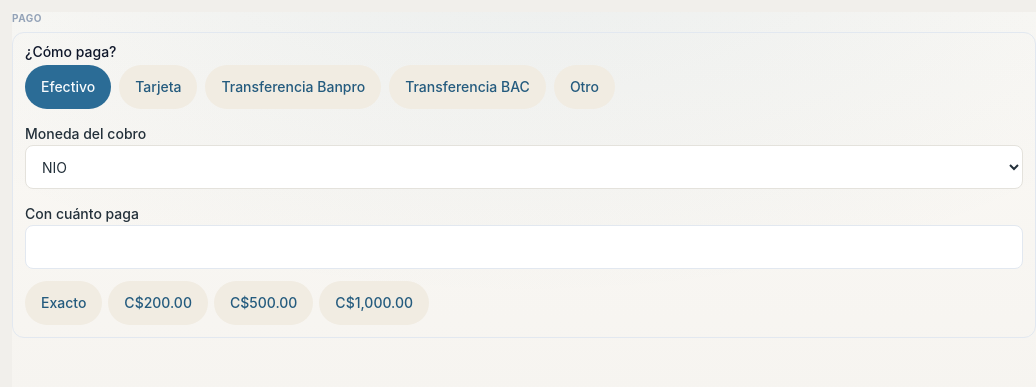
PosPaymentFields › los montos rápidos llenan el monto con un billete real o con el exacto
Click the button "Exacto".
click(64, 303)  # box x1=25 y1=281 x2=102 y2=325
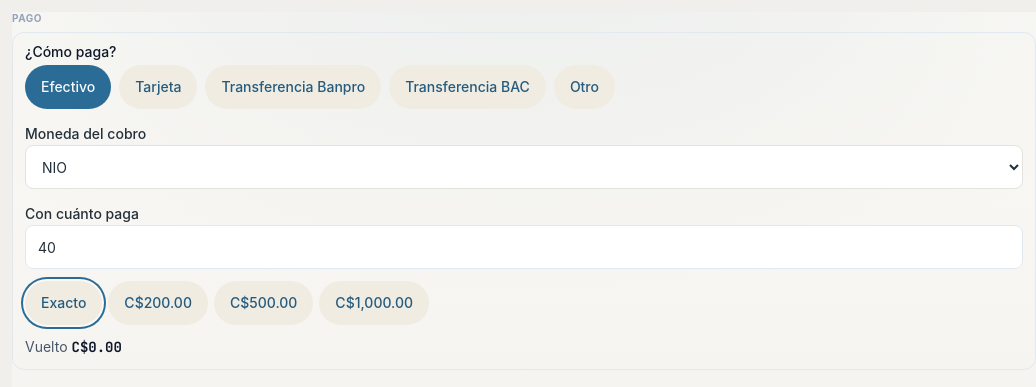
Expected: the number field labelled "Con cuánto paga" holds "40", x1=25 y1=225 x2=1023 y2=269
Click the button "C$500.00".
click(264, 303)  # box x1=214 y1=281 x2=313 y2=325
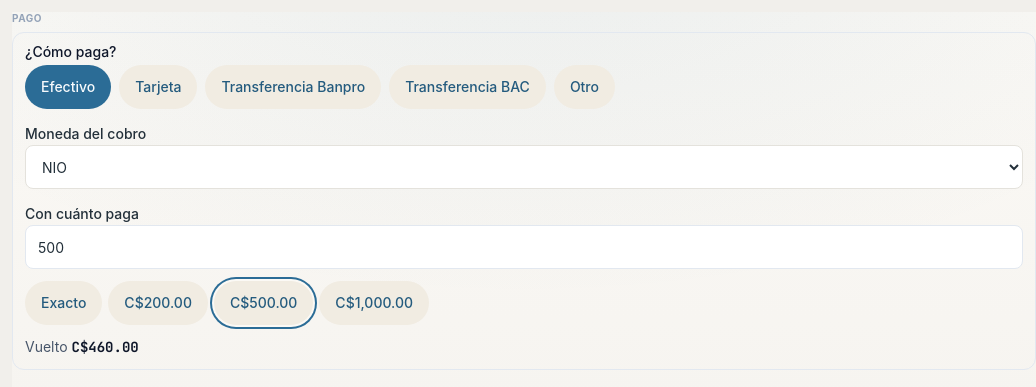
Expected: the number field labelled "Con cuánto paga" holds "500", x1=25 y1=225 x2=1023 y2=269
